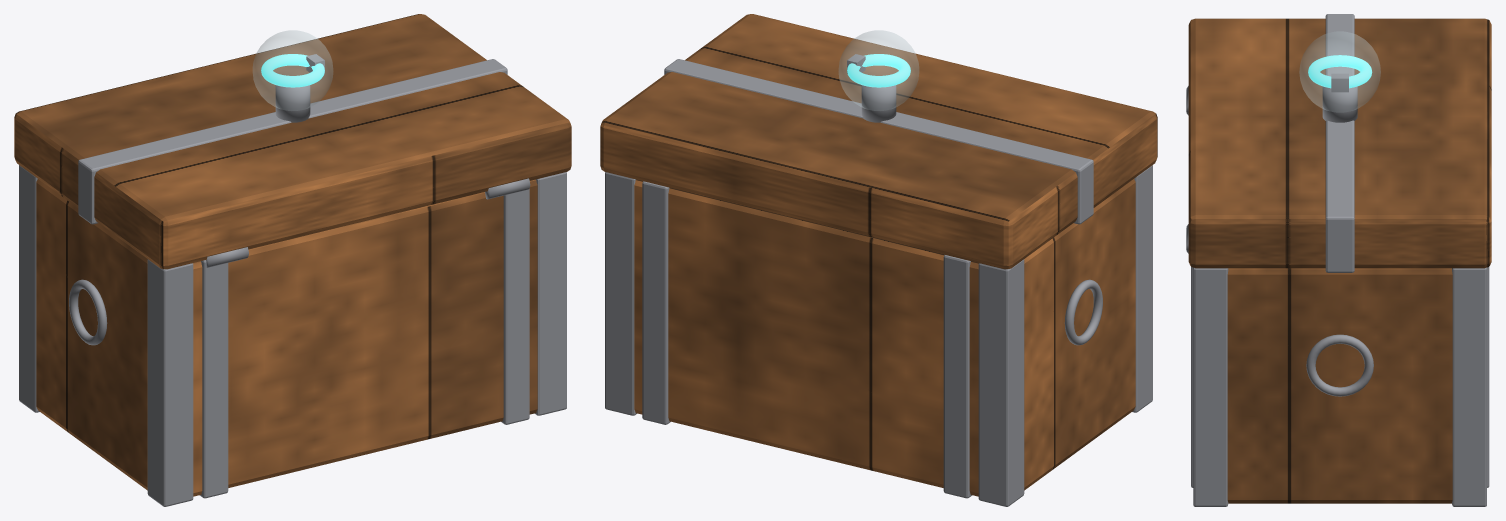
The model's file is meshgate_demo.draco.glb.
3 views of the same model, side by side, from view 1: azimuth 30°, elevation 25°; view 2: azimuth 150°, elevation 25°; view 3: azimuth 270°, elevation 25° (orthographic).
Parts seen in each view (by area): view 1: crate_body, crate_lid, corner_00, corner_10, lid_band, band_l, band_r, beacon_dome, corner_01, beacon_ring, handle_l, beacon_post; view 2: crate_body, crate_lid, corner_01, corner_11, lid_band, band_r, band_l, beacon_dome, corner_00, beacon_ring, handle_l, beacon_post; view 3: crate_lid, crate_body, corner_10, corner_11, lid_band, beacon_dome, handle_r, band_r, beacon_ring, beacon_post, beacon_notch.
Boxes of the visible parts, bbox=[...] form: crate_body: bbox=[36, 179, 537, 496]; crate_lid: bbox=[14, 14, 571, 269]; corner_00: bbox=[147, 259, 193, 506]; corner_10: bbox=[535, 172, 566, 415]; lid_band: bbox=[78, 59, 507, 224]; band_l: bbox=[200, 260, 228, 498]; band_r: bbox=[501, 188, 529, 424]; beacon_dome: bbox=[253, 30, 333, 110]; corner_01: bbox=[19, 165, 39, 412]; beacon_ring: bbox=[261, 54, 324, 87]; handle_l: bbox=[69, 279, 107, 345]; beacon_post: bbox=[275, 85, 310, 122]; crate_body: bbox=[634, 179, 1135, 496]; crate_lid: bbox=[600, 14, 1157, 269]; corner_01: bbox=[978, 259, 1024, 506]; corner_11: bbox=[605, 172, 636, 415]; lid_band: bbox=[664, 59, 1093, 224]; band_r: bbox=[642, 181, 670, 424]; band_l: bbox=[943, 255, 971, 498]; beacon_dome: bbox=[838, 30, 918, 110]; corner_00: bbox=[1132, 165, 1152, 412]; beacon_ring: bbox=[847, 54, 910, 87]; handle_l: bbox=[1064, 279, 1102, 345]; beacon_post: bbox=[861, 85, 896, 122]; crate_lid: bbox=[1188, 18, 1491, 268]; crate_body: bbox=[1227, 268, 1452, 503]; corner_10: bbox=[1193, 267, 1228, 506]; corner_11: bbox=[1452, 267, 1486, 506]; lid_band: bbox=[1325, 14, 1354, 272]; beacon_dome: bbox=[1299, 31, 1380, 111]; handle_r: bbox=[1306, 334, 1373, 396]; band_r: bbox=[1191, 267, 1489, 487]; beacon_ring: bbox=[1308, 55, 1372, 88]; beacon_post: bbox=[1322, 86, 1357, 122]; beacon_notch: bbox=[1331, 73, 1348, 92].
Bounding box in the file's own units: 0.832 × 0.707 × 0.524.
Materials: 4 (1 with a texture image).
